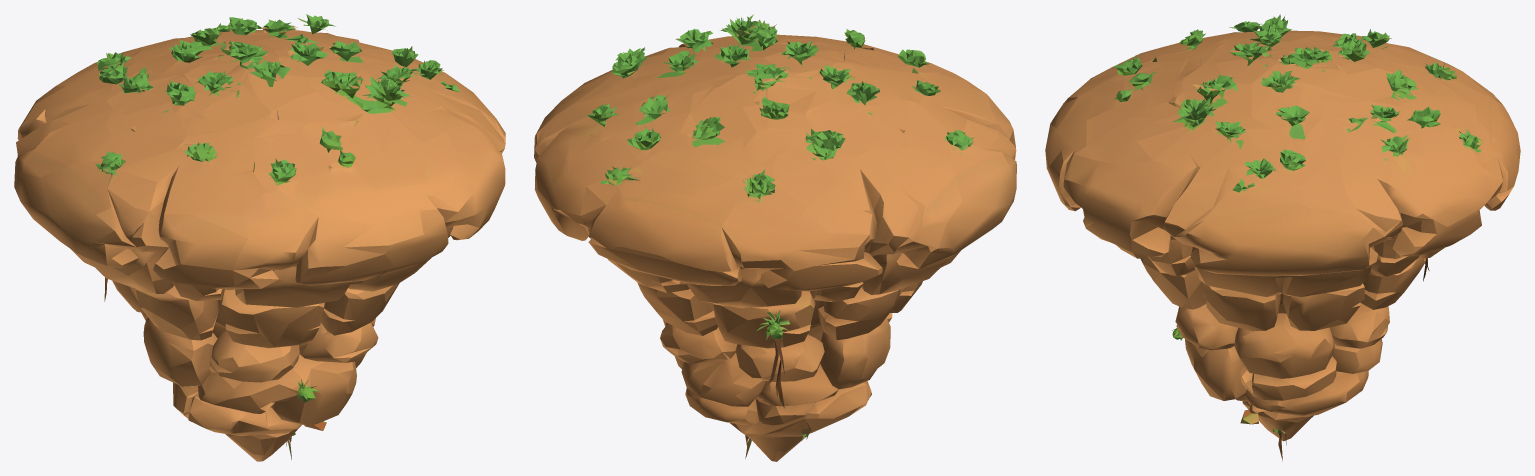
File: isle.glb
3 renders of one model, left to right at view 1: azimuth 30°, elevation 25°; view 2: azimuth 150°, elevation 25°; view 3: azimuth 270°, elevation 25°, orthographic. The views are drawn at different scales.
Size of the model in its own units: 1.9 by 1.76 by 1.9.
1 material, 1 textured.
